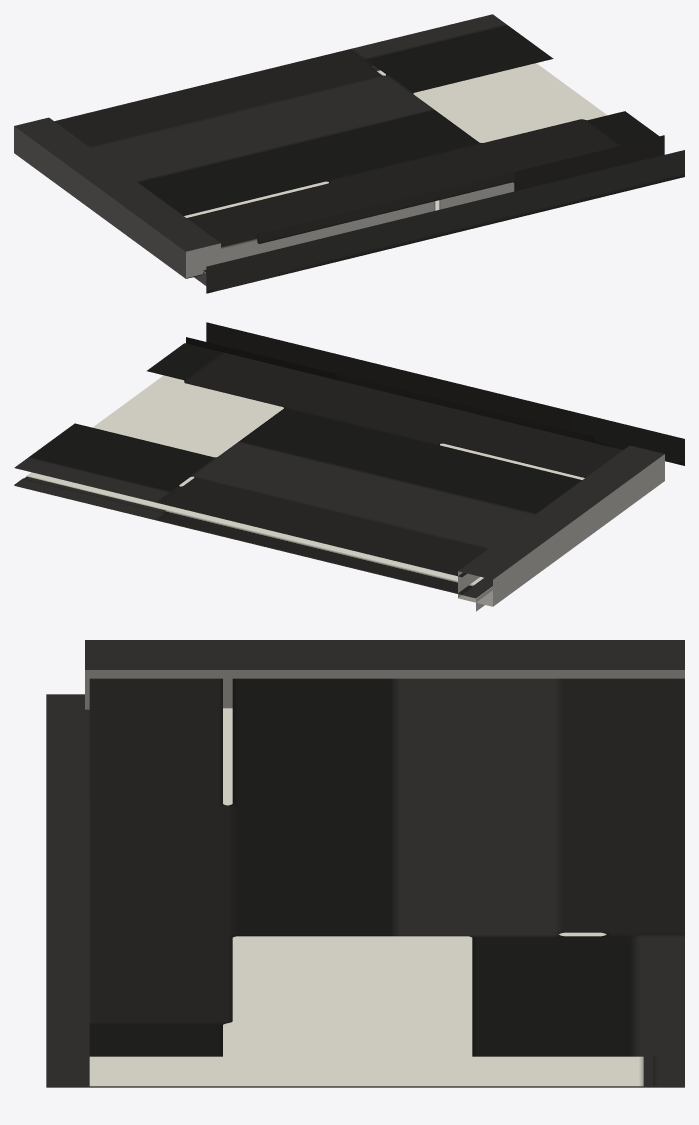
Rendered from section-2.obj.
The picture shows the model from 3 angles, top to bottom: view 1: azimuth 30°, elevation 25°; view 2: azimuth 150°, elevation 25°; view 3: azimuth 270°, elevation 25°; orthographic projection. The views are drawn at different scales.
Size of the model in its own units: 0.9435 by 0.068 by 0.656.
